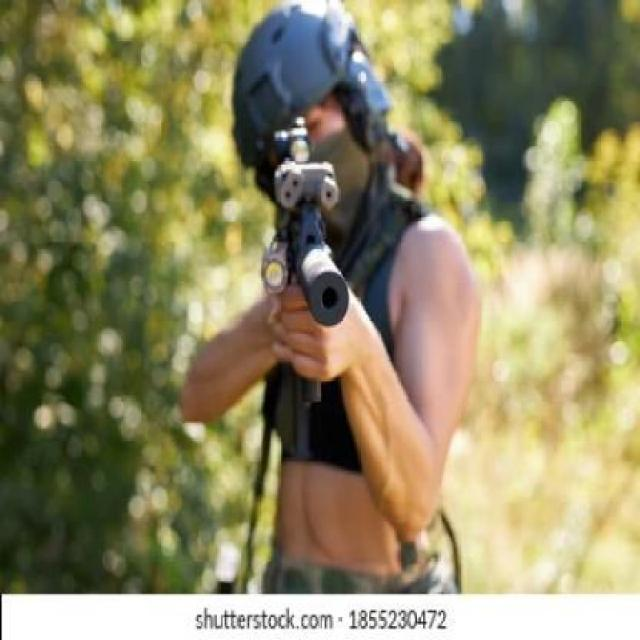weapon: (262, 102, 365, 338)
